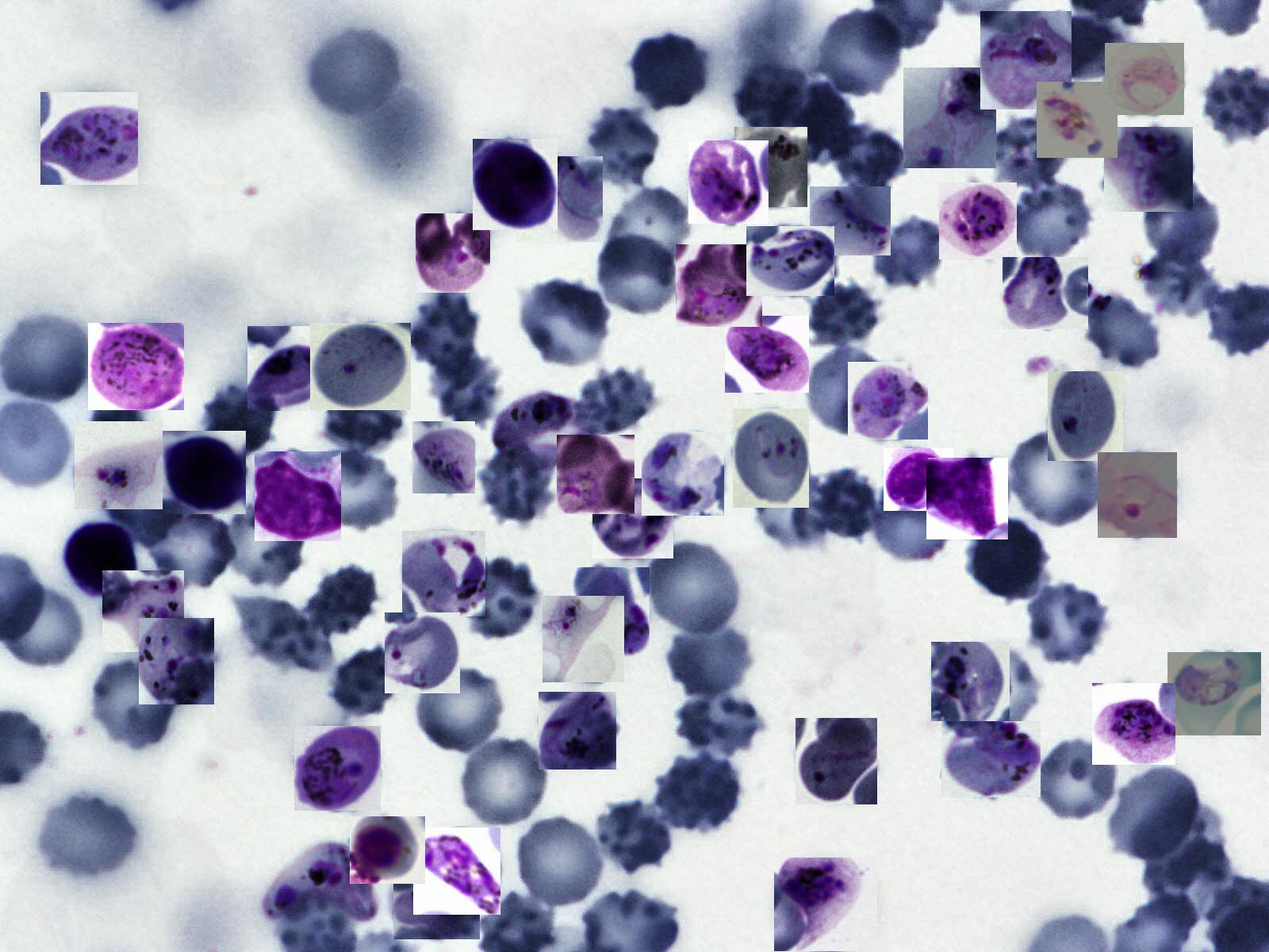Infected: (263, 840, 380, 922), (774, 858, 877, 951), (903, 67, 996, 168), (558, 567, 650, 669), (41, 92, 138, 185), (980, 11, 1072, 109), (310, 324, 411, 411), (88, 323, 184, 410), (1167, 652, 1261, 735), (75, 421, 163, 509), (255, 451, 341, 541), (473, 139, 558, 230), (492, 390, 588, 470), (413, 827, 500, 915), (941, 721, 1041, 797), (1104, 127, 1193, 212), (733, 409, 809, 508), (516, 156, 603, 242), (295, 727, 381, 812), (159, 431, 246, 514), (676, 244, 762, 327), (402, 531, 485, 616), (542, 596, 624, 682), (796, 718, 877, 804), (642, 432, 724, 516), (1092, 683, 1175, 765), (688, 140, 769, 224), (247, 326, 327, 411), (1098, 452, 1177, 538), (1048, 371, 1123, 461), (102, 570, 184, 652), (926, 458, 1008, 539), (592, 478, 673, 559), (60, 520, 140, 601), (725, 316, 809, 393), (139, 618, 214, 704), (931, 642, 1010, 721), (848, 362, 928, 440), (746, 226, 834, 296), (1037, 82, 1118, 158), (1003, 257, 1088, 329), (557, 435, 634, 514), (385, 612, 460, 693), (539, 692, 616, 770), (939, 182, 1017, 259), (416, 213, 490, 293), (734, 127, 807, 207), (393, 872, 480, 939), (1105, 43, 1184, 115), (810, 186, 891, 255), (350, 816, 425, 884), (412, 421, 475, 493), (884, 448, 953, 511)
Uninfected: (304, 23, 405, 121), (1106, 765, 1202, 862), (1010, 431, 1104, 528), (815, 6, 907, 102), (648, 543, 738, 635), (602, 185, 687, 282), (803, 346, 892, 435), (234, 597, 335, 674), (40, 796, 137, 876), (664, 616, 754, 700), (965, 516, 1050, 602), (417, 666, 502, 752), (521, 280, 609, 363), (871, 476, 957, 560), (94, 660, 176, 748), (957, 645, 1037, 735), (462, 738, 546, 823), (1141, 176, 1220, 265), (517, 820, 600, 904), (146, 508, 234, 587), (984, 113, 1074, 190), (217, 504, 302, 585), (307, 451, 395, 529), (655, 752, 742, 830), (599, 231, 681, 313), (628, 31, 711, 112), (1005, 180, 1091, 258), (672, 687, 765, 759), (753, 462, 830, 548), (317, 380, 407, 453), (477, 444, 558, 525), (458, 557, 538, 639), (869, 213, 950, 293), (404, 294, 484, 375), (570, 366, 659, 437), (1038, 739, 1116, 820), (0, 587, 80, 665), (1026, 584, 1104, 663), (200, 382, 279, 460), (426, 350, 501, 430), (594, 799, 672, 874), (734, 64, 812, 138), (588, 107, 657, 189), (1084, 294, 1160, 368), (301, 564, 377, 638), (803, 279, 884, 348), (1044, 9, 1125, 78), (1143, 257, 1225, 320), (815, 466, 882, 542), (834, 124, 907, 190), (333, 643, 393, 716)
